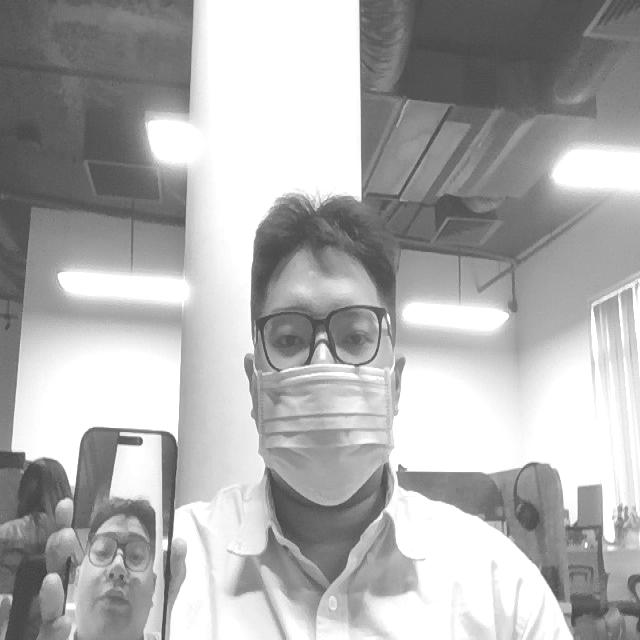fake: (58, 412, 183, 640), (254, 358, 397, 508), (70, 494, 159, 640)
real: (243, 186, 408, 503), (258, 301, 396, 370)
